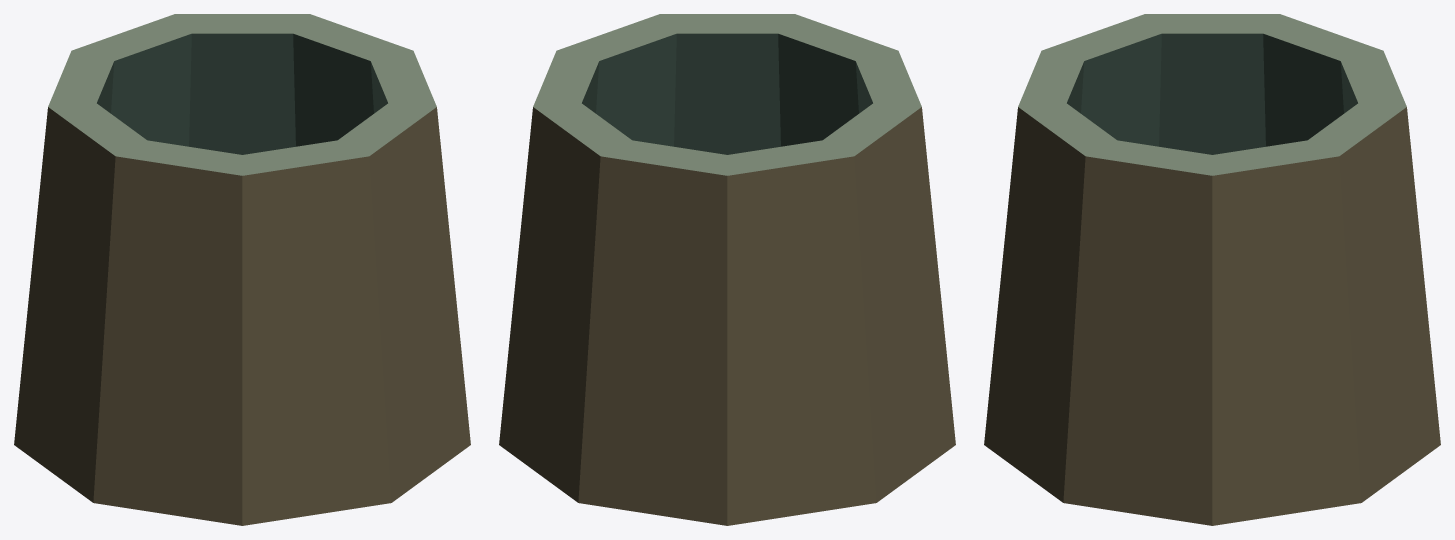
The model's file is hollow-stump.glb.
3 renders of one model, left to right at view 1: azimuth 30°, elevation 25°; view 2: azimuth 150°, elevation 25°; view 3: azimuth 270°, elevation 25°, orthographic.
Parts seen in each view (by area): view 1: hollow-stump__body; view 2: hollow-stump__body; view 3: hollow-stump__body.
Part boxes in pixels (<box>): hollow-stump__body: <box>14,14,470,525</box>; hollow-stump__body: <box>499,14,955,525</box>; hollow-stump__body: <box>984,14,1440,525</box>.
Size of the model in its own units: 0.9117 by 0.75 by 0.9257.
